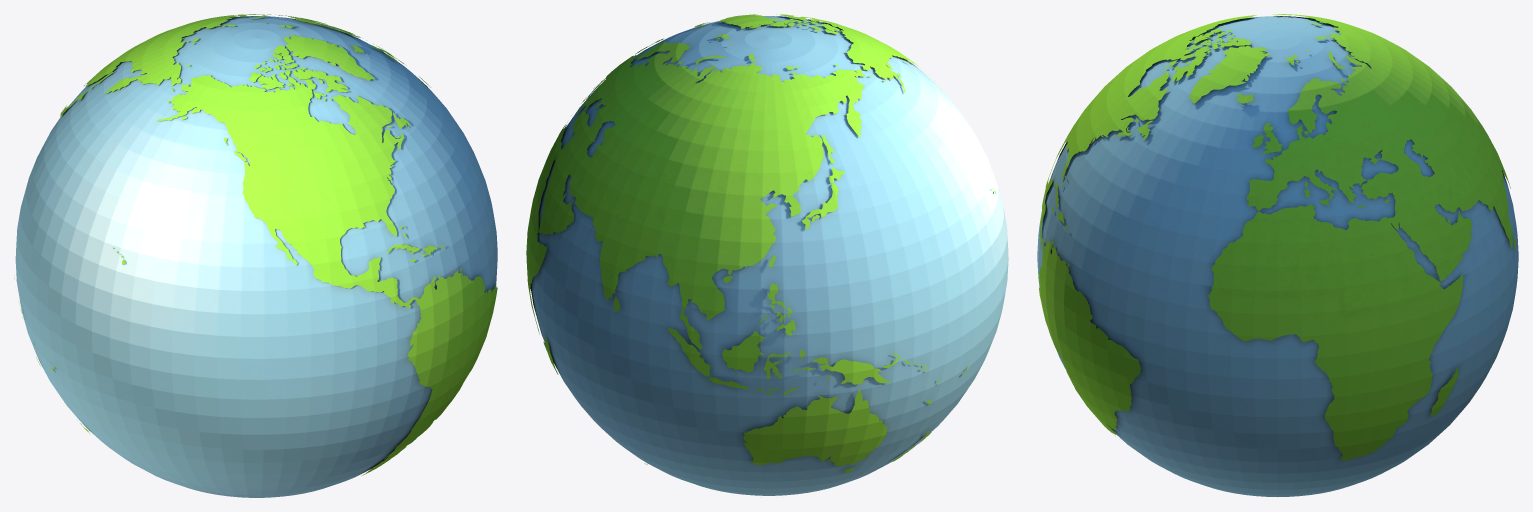
The model's file is Earth.gltf.
3 views of the same model, side by side, from view 1: azimuth 30°, elevation 25°; view 2: azimuth 150°, elevation 25°; view 3: azimuth 270°, elevation 25° (orthographic).
Parts seen in each view (by area): view 1: Object_3, Object_2; view 2: Object_3, Object_2; view 3: Object_3, Object_2.
Part boxes in pixels (<box>): Object_3: <box>14,14,497,475</box>; Object_2: <box>15,183,497,497</box>; Object_3: <box>526,14,998,473</box>; Object_2: <box>530,187,1008,495</box>; Object_3: <box>1038,14,1516,460</box>; Object_2: <box>1037,192,1518,496</box>.
Bounding box in the file's own units: 13262 × 13305 × 13237.
Materials: 2 (2 with a texture image).
